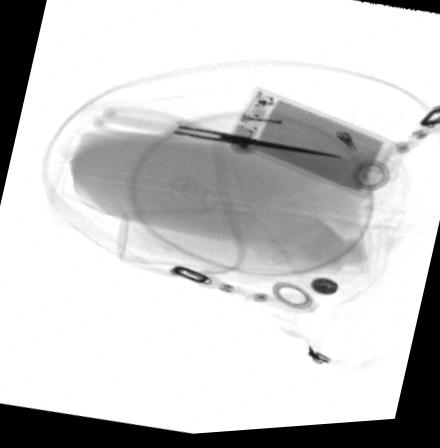Powerbank: (221, 87, 404, 206)
Scissors: (89, 104, 346, 164)
